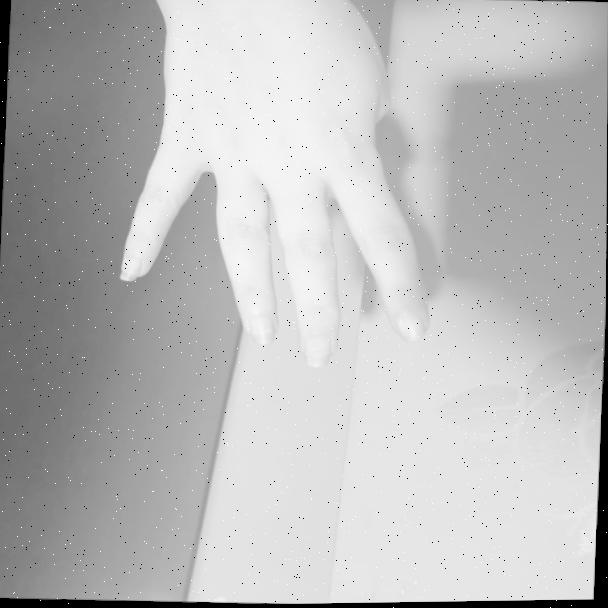four: (112, 37, 457, 380)
